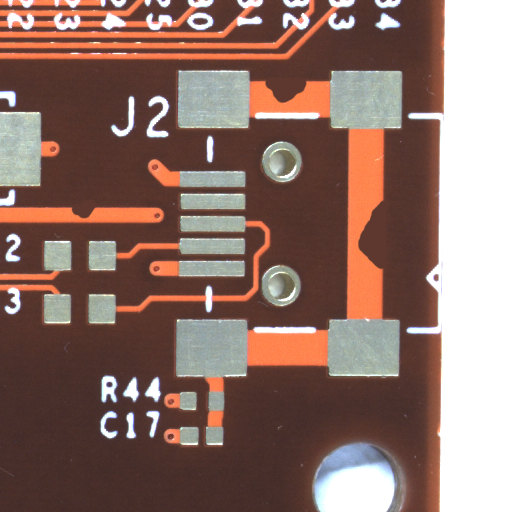Mouse_bite: (372, 234, 416, 314), (287, 88, 344, 119), (84, 210, 118, 231)
